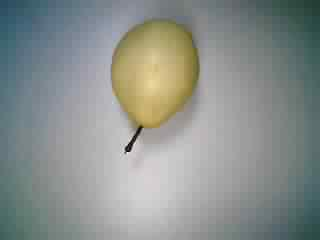pear: (92, 14, 212, 156)
